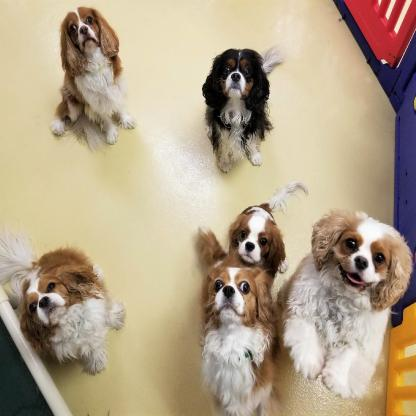Cavalier King Charles Spaniel: (173, 28, 306, 174), (0, 233, 135, 376), (189, 257, 293, 416), (44, 6, 150, 160), (200, 188, 296, 283)
